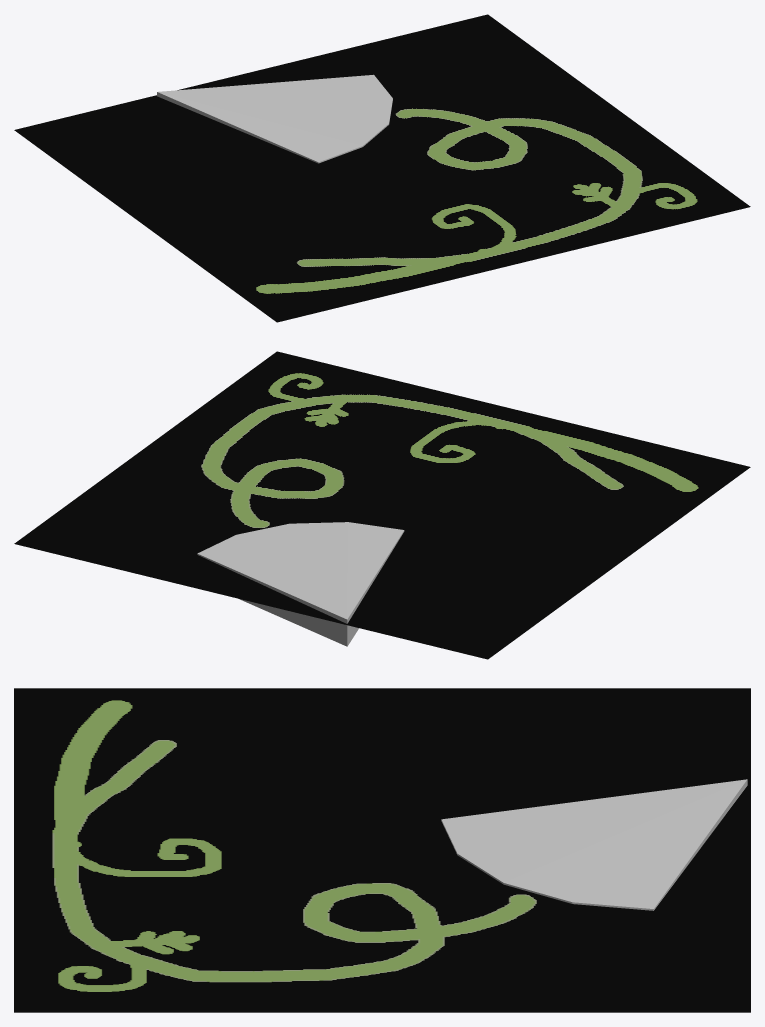
The model's file is watermelonWithStem.fbx.
3 views of the same model, one above another, from view 1: azimuth 30°, elevation 25°; view 2: azimuth 150°, elevation 25°; view 3: azimuth 270°, elevation 25° (orthographic). The views are drawn at different scales.
Visible parts, largest first — view 1: 3, Circle; view 2: 3, Circle; view 3: 3, Circle.
Boxes of the visible parts, x1,y1,x2,y2 form: 3: (14,14,750,322); Circle: (157,74,392,163); 3: (14,351,750,659); Circle: (197,522,404,646); 3: (14,688,750,1012); Circle: (441,779,747,910).
Bounding box in the file's own units: 68.18 × 4.15 × 65.53.
